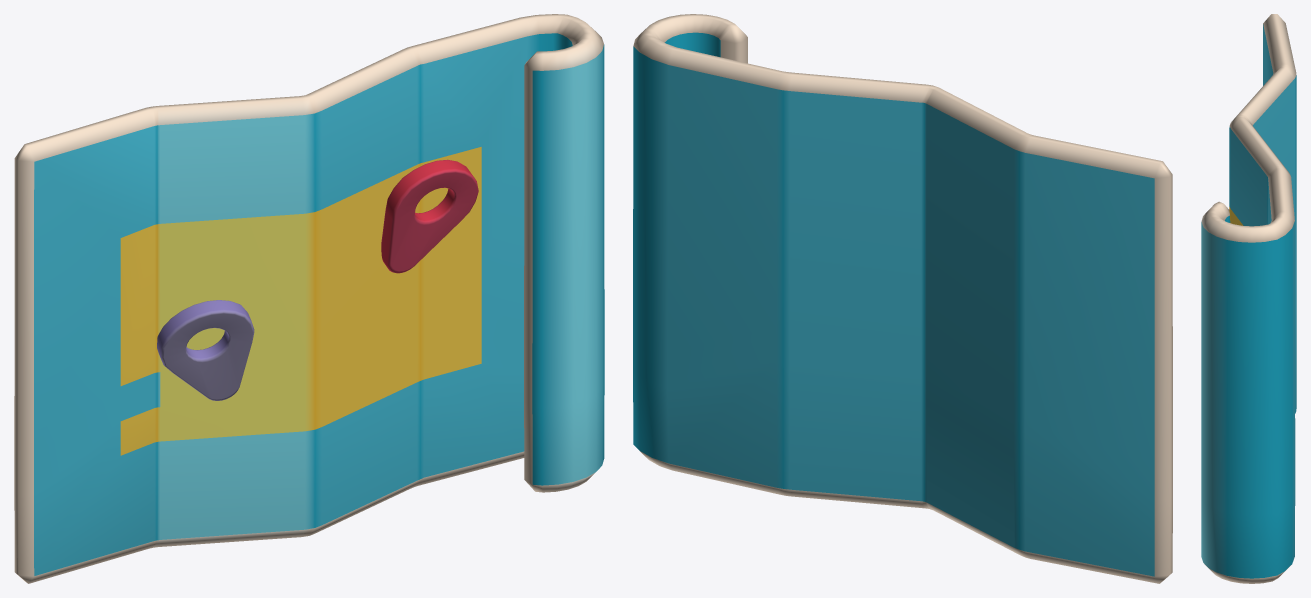
The model's file is map.fbx.
3 renders of one model, left to right at view 1: azimuth 30°, elevation 25°; view 2: azimuth 150°, elevation 25°; view 3: azimuth 270°, elevation 25°, orthographic. The views are drawn at different scales.
Parts seen in each view (by area): view 1: map; view 2: map; view 3: map.
Boxes of the visible parts, x1,y1,x2,y2 form: map: [14, 14, 604, 583]; map: [633, 14, 1172, 583]; map: [1201, 14, 1296, 583].
Bounding box in the file's own units: 1.58 × 1.17 × 0.2862.
